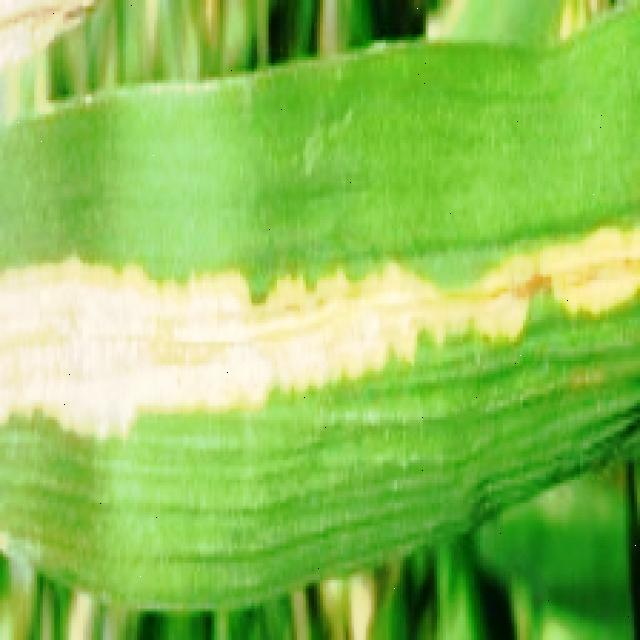unhealth: (15, 32, 640, 585)
